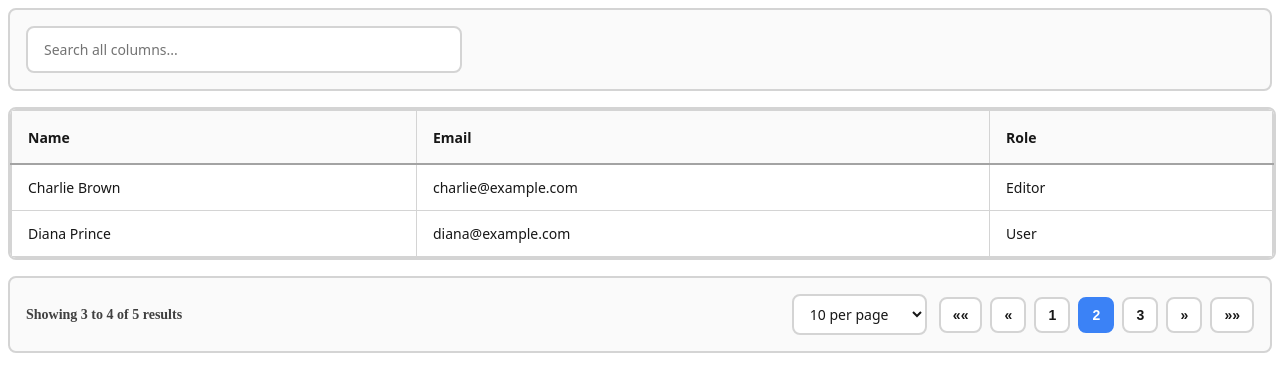
it: DataTable › Filtering › resets to first page when filtering
In the field with placeholder "Search all columns...": (244, 50) [26,26,462,73], type "Alice"
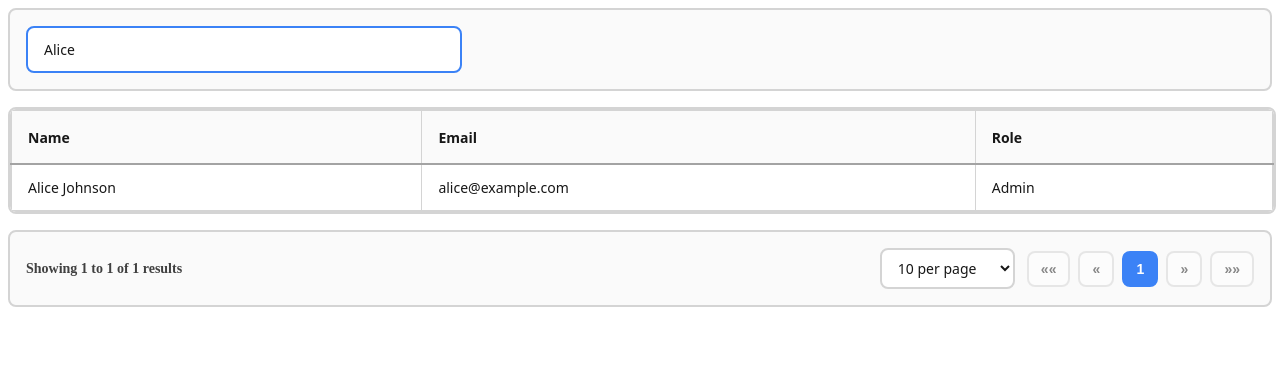
expect the text "Showing 1 to 1 of 1 results" is shown: met, box [26,260,182,276]
